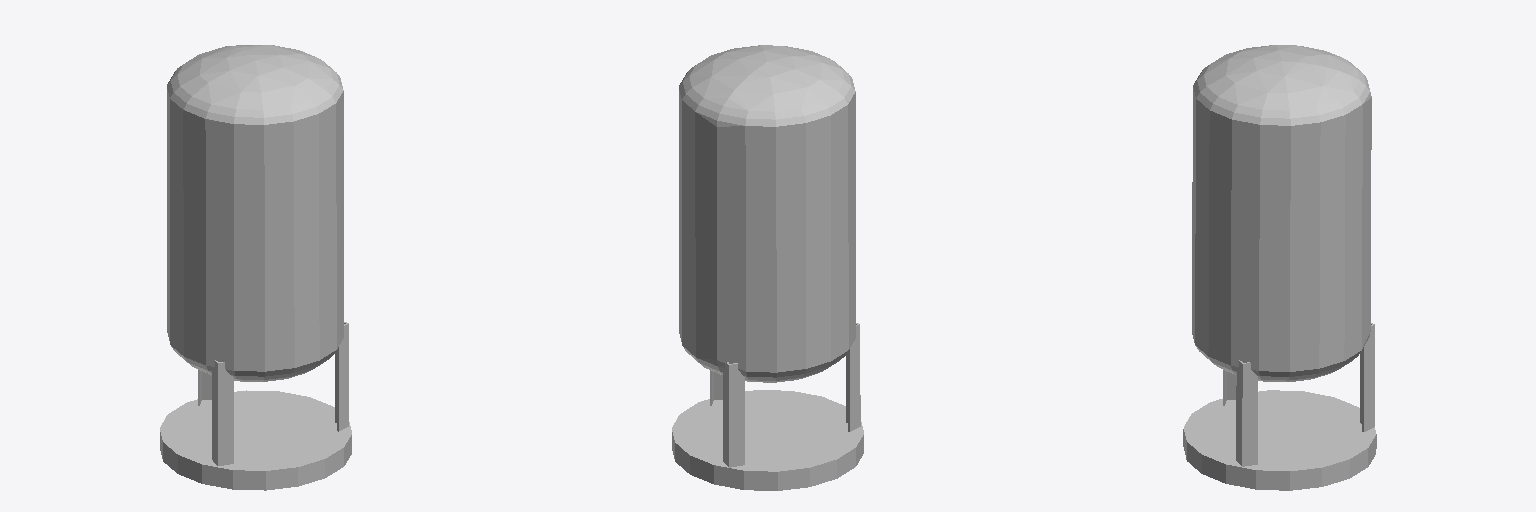
Rendered from tank_3.obj.
3 renders of one model, left to right at view 1: azimuth 30°, elevation 25°; view 2: azimuth 150°, elevation 25°; view 3: azimuth 270°, elevation 25°, orthographic.
Parts seen in each view (by area): view 1: EQUIP_x_G_5_4; view 2: EQUIP_x_G_5_4; view 3: EQUIP_x_G_5_4.
Boxes of the visible parts, x1=… form: EQUIP_x_G_5_4: x1=160, y1=45, x2=351, y2=490; EQUIP_x_G_5_4: x1=672, y1=45, x2=863, y2=490; EQUIP_x_G_5_4: x1=1183, y1=45, x2=1376, y2=490.
Bounding box in the file's own units: 5.49 × 12.28 × 5.52.